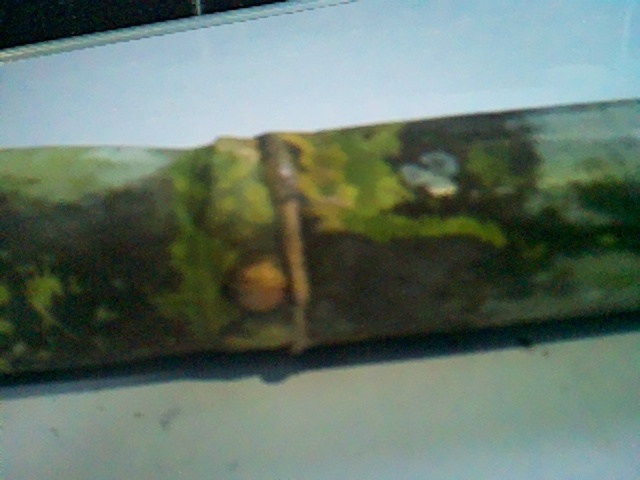Good Sugarcane: (0, 91, 635, 388)
Node: (182, 127, 349, 366)
